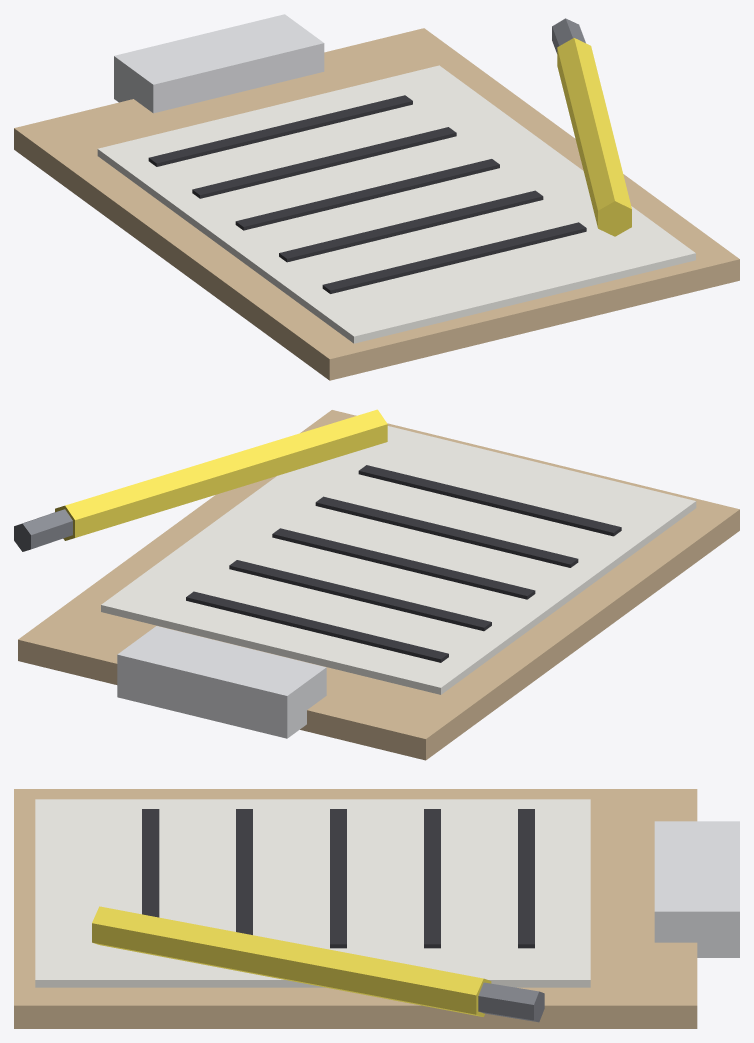
File: editor_held.gltf
3 views of the same model, one above another, from view 1: azimuth 30°, elevation 25°; view 2: azimuth 150°, elevation 25°; view 3: azimuth 270°, elevation 25° (orthographic). The views are drawn at different scales.
Visible parts, largest first — view 1: track_core_editor_held; view 2: track_core_editor_held; view 3: track_core_editor_held.
Part boxes in pixels (box(x1,y1,x2,y2)): track_core_editor_held: box(14, 14, 739, 380); track_core_editor_held: box(14, 409, 739, 760); track_core_editor_held: box(14, 789, 739, 1028).
Size of the model in its own units: 0.1432 by 0.02 by 0.17.
